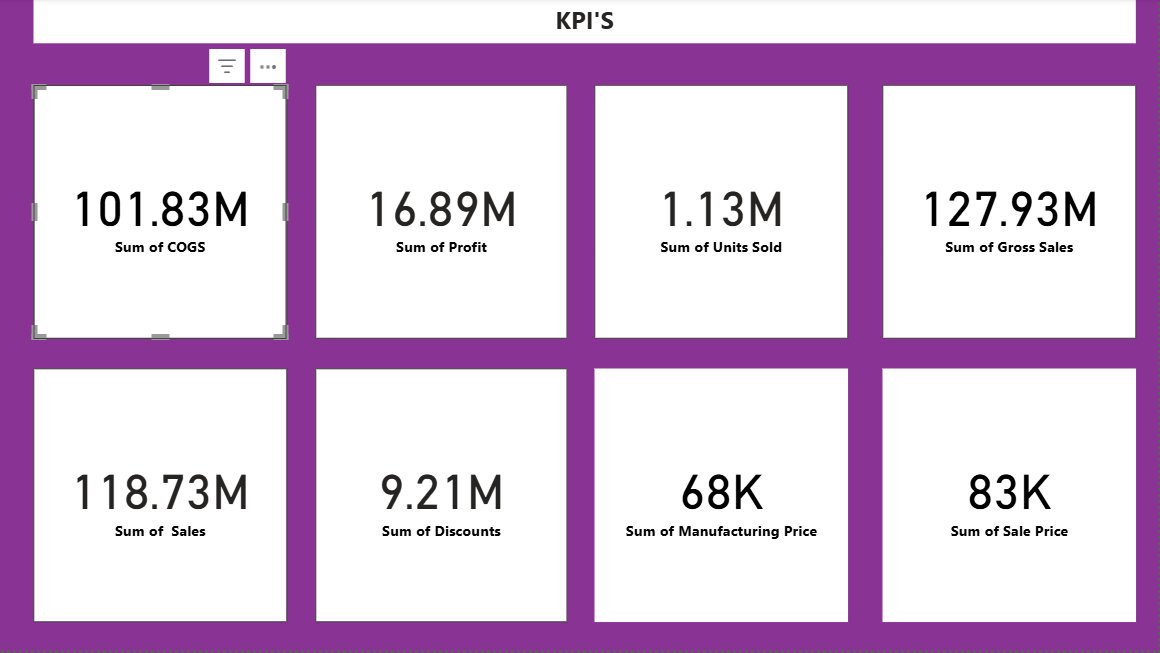

What the dashboard file says about the page in this screenshot:
{"tool":"powerbi","page":{"name":"KPI","canvas":[1280,720],"ordinal":1},"visuals":[{"type":"card","fields":{"Values":["Sum(financials (2).COGS)"]},"box":[22.7,49.1,279.7,279.7],"z":0},{"type":"card","title":"Profit","fields":{"Values":["Sum(financials (2).Profit)"]},"box":[343.9,49.1,279.7,279.7],"z":1000},{"type":"card","fields":{"Values":["Sum(financials (2).Units Sold)"]},"box":[657.6,49.1,279.7,279.7],"z":2000},{"type":"card","fields":{"Values":["Sum(financials (2). Sales)"]},"box":[22.7,359.1,279.7,279.7],"z":3000},{"type":"card","fields":{"Values":["Sum(financials (2).Discounts)"]},"box":[343.9,359.1,279.7,279.7],"z":4000},{"type":"card","fields":{"Values":["Sum(financials (2).Gross Sales)"]},"box":[975.1,49.1,279.7,279.7],"z":5000},{"type":"card","fields":{"Values":["Sum(financials (2).Manufacturing Price)"]},"box":[658,359,280,280],"z":5001},{"type":"card","fields":{"Values":["Sum(financials (2).Sale Price)"]},"box":[975,359,280,280],"z":5002}]}

Visuals, with their boxes on the page's 1280x720 design canvas (x1, y1, x2, y2). These are canvas units, not pixel positions in the 1160x653 screenshot, which may show the page scaled, cropped or inside an application window:
card - Sum(financials (2).COGS): detection(23, 49, 302, 329)
"Profit" card: detection(344, 49, 624, 329)
card - Sum(financials (2).Units Sold): detection(658, 49, 937, 329)
card - Sum(financials (2). Sales): detection(23, 359, 302, 639)
card - Sum(financials (2).Discounts): detection(344, 359, 624, 639)
card - Sum(financials (2).Gross Sales): detection(975, 49, 1255, 329)
card - Sum(financials (2).Manufacturing Price): detection(658, 359, 938, 639)
card - Sum(financials (2).Sale Price): detection(975, 359, 1255, 639)
